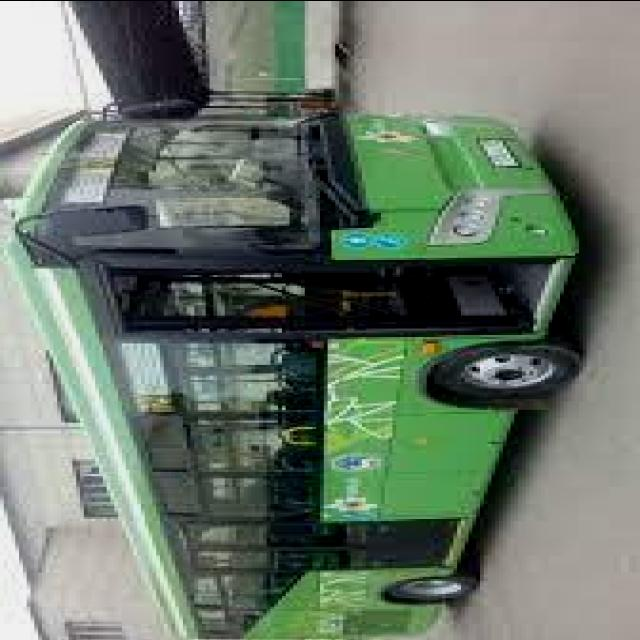bus: (1, 95, 584, 639)
